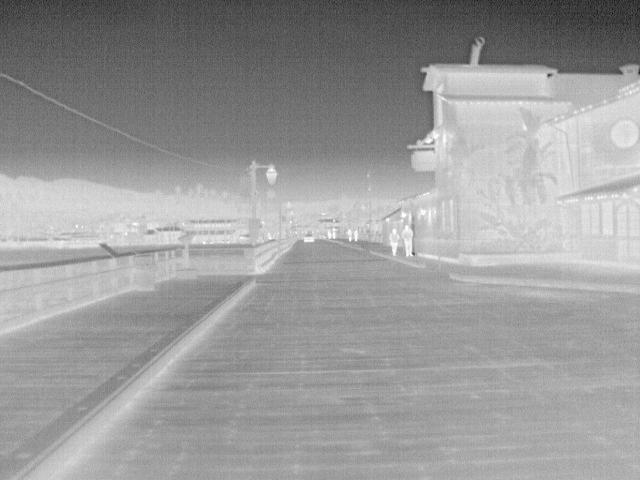car: (302, 232, 317, 244)
person: (400, 221, 417, 257), (387, 226, 403, 257), (352, 227, 360, 244), (345, 227, 354, 242)
